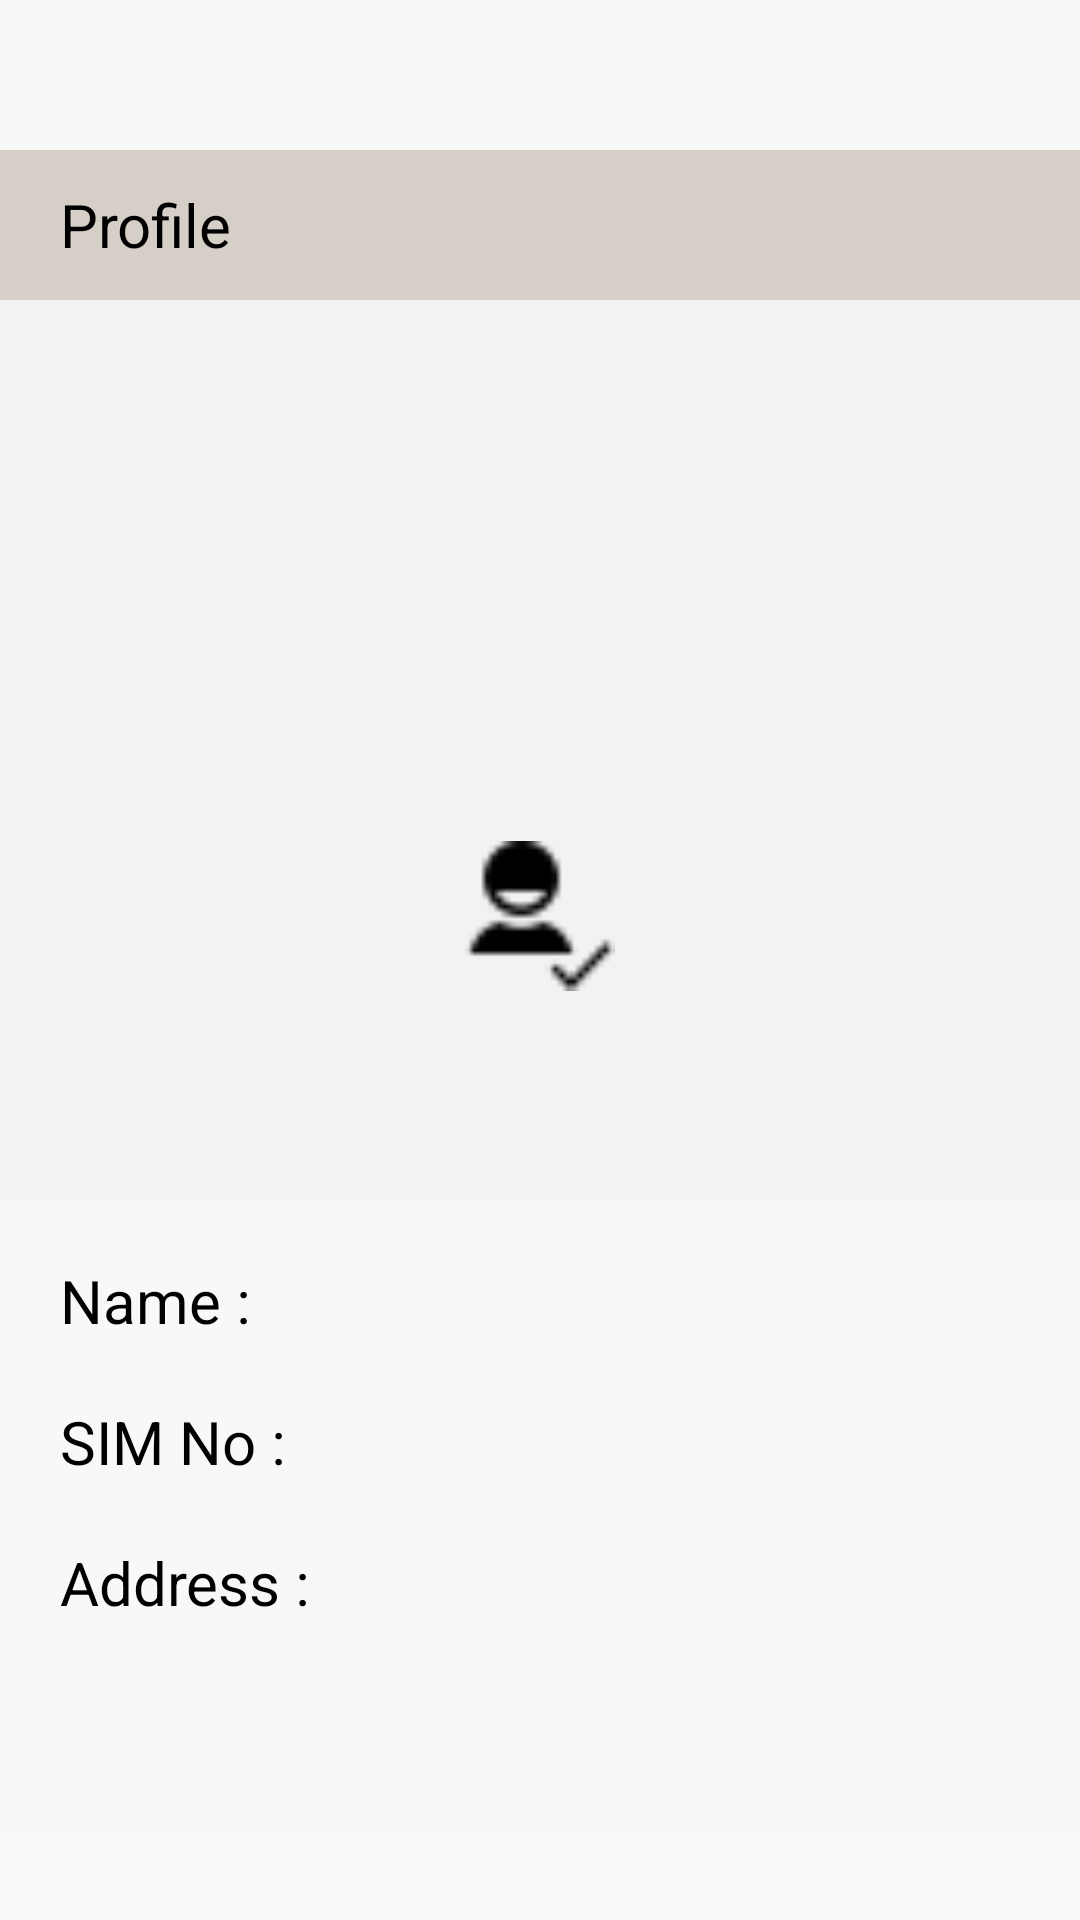

Point at icon controls on the screen. Image size 1080w x 1920h, points as (x=x, y=y).
profile: (x=541, y=916)
